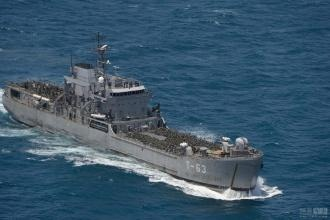warship: (2, 43, 266, 195)
